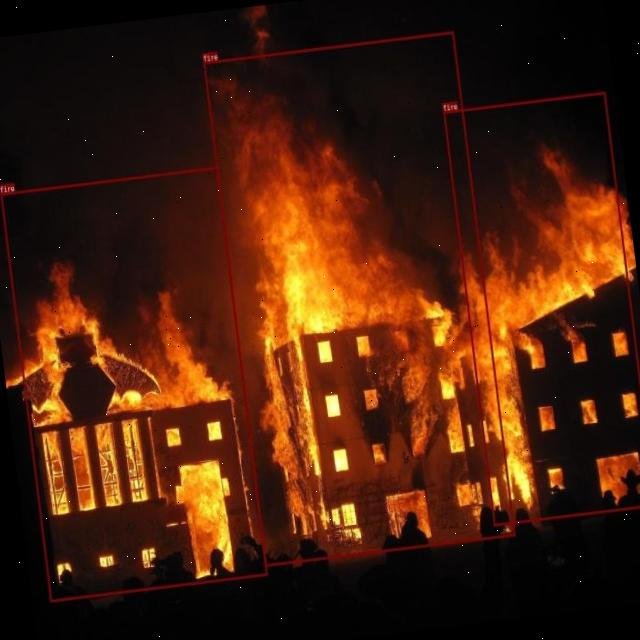fire: (202, 31, 514, 566), (1, 166, 268, 601), (442, 90, 640, 525)
